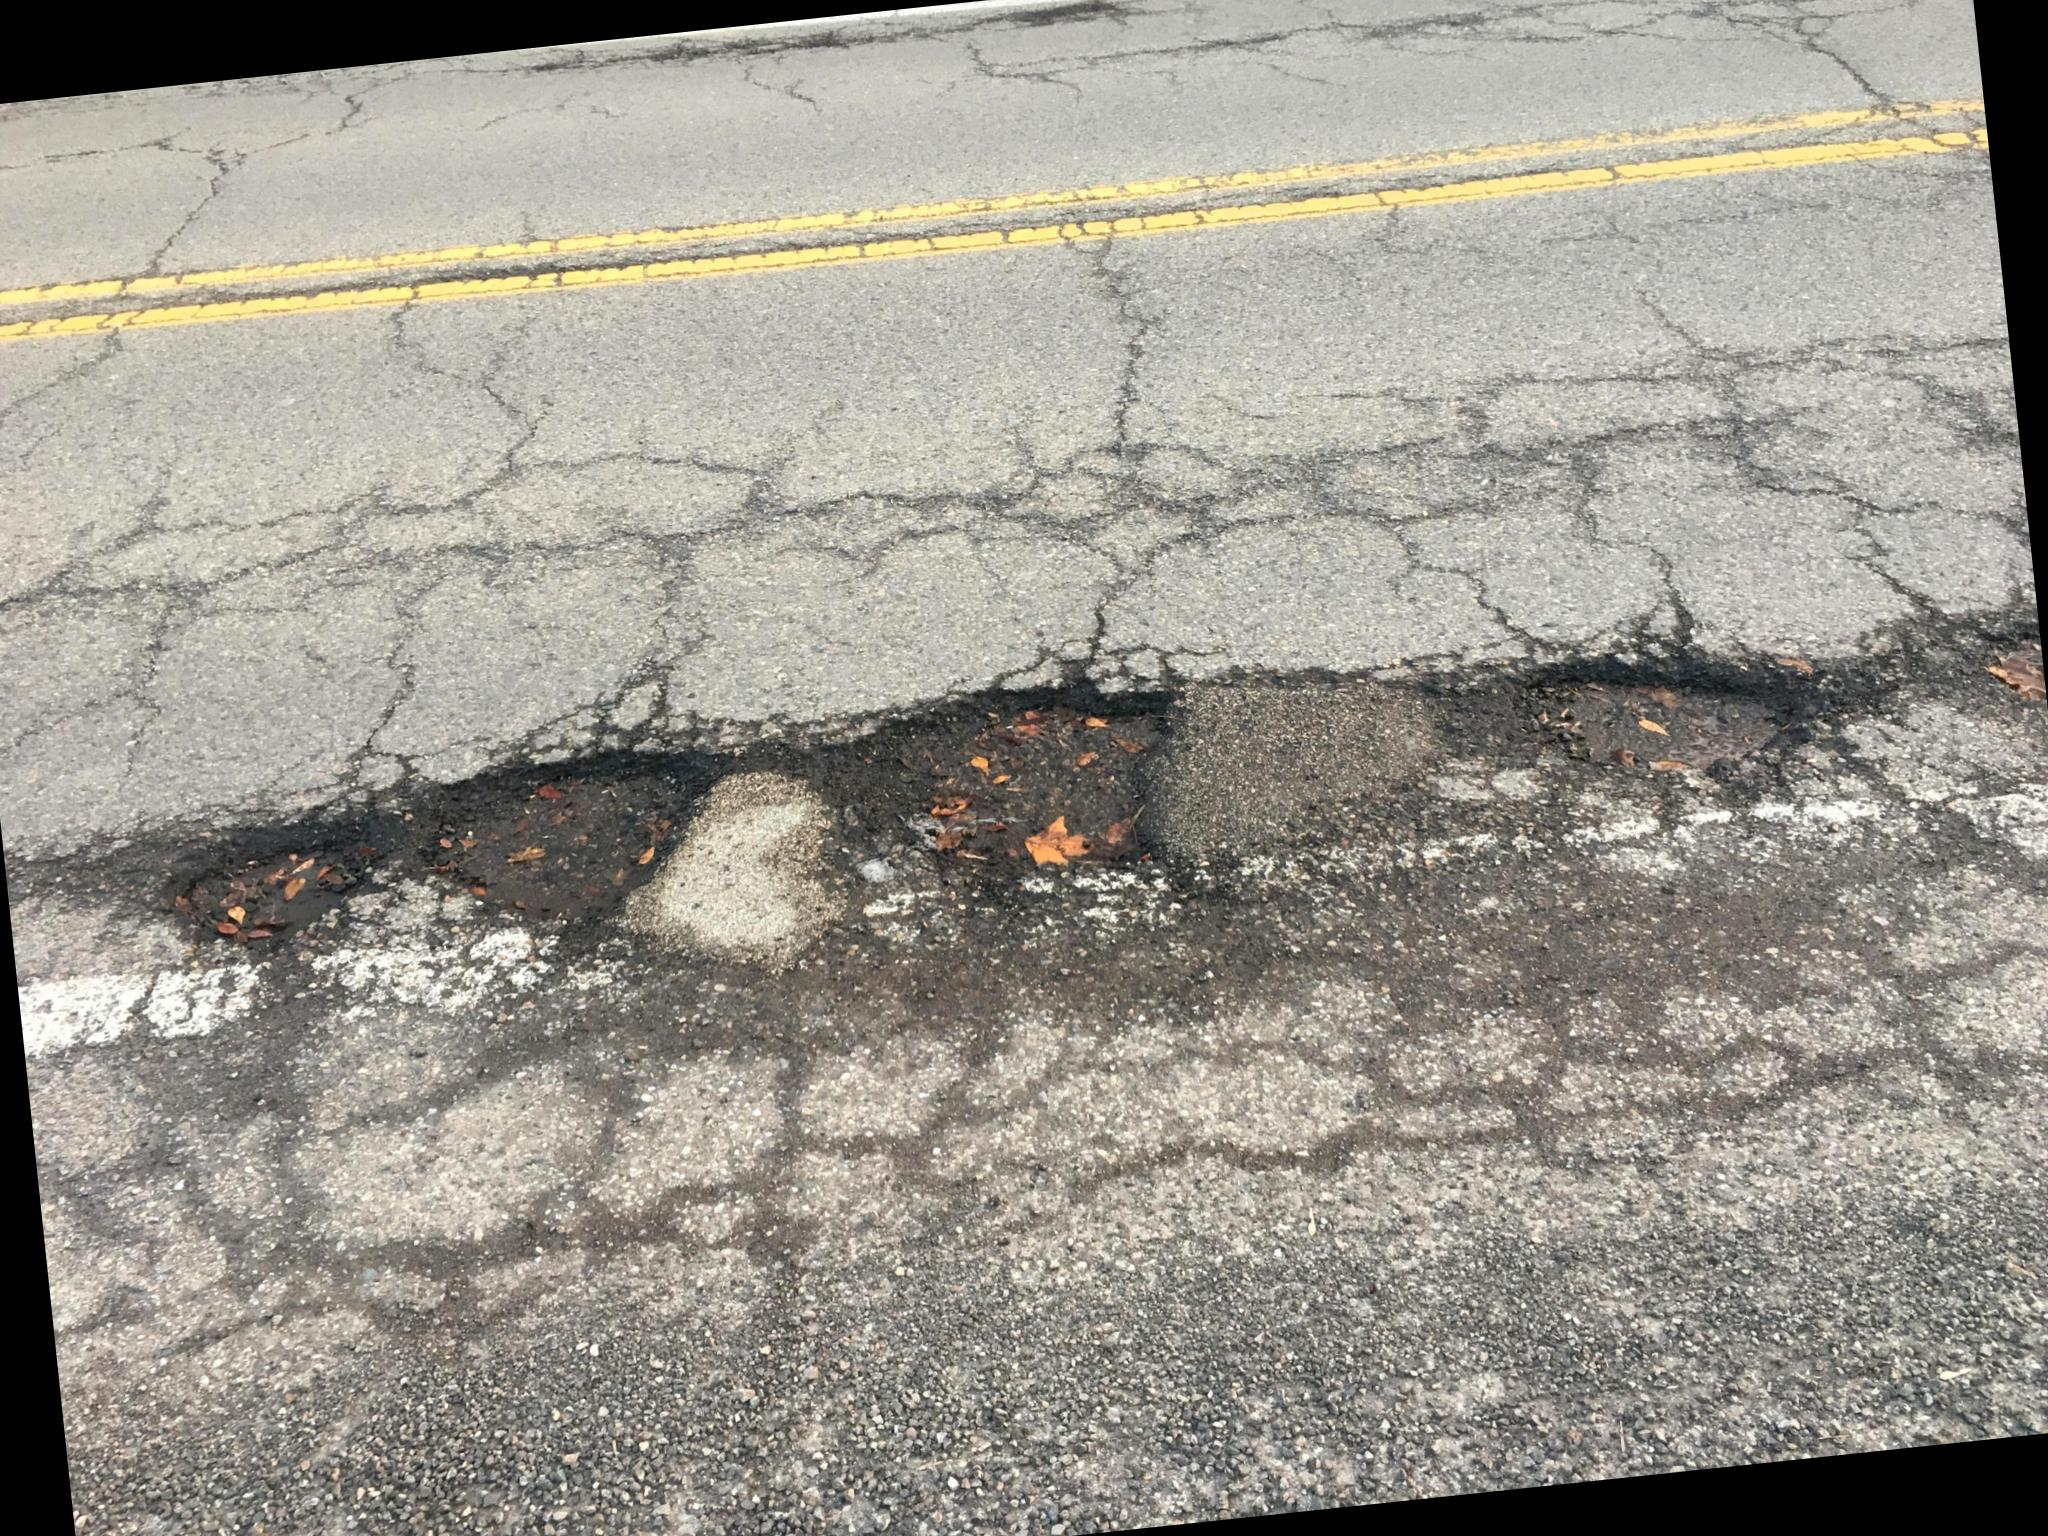pothole: (768, 671, 1256, 942), (1464, 607, 1825, 841), (402, 723, 747, 965), (113, 766, 410, 992), (1930, 579, 2048, 800)
